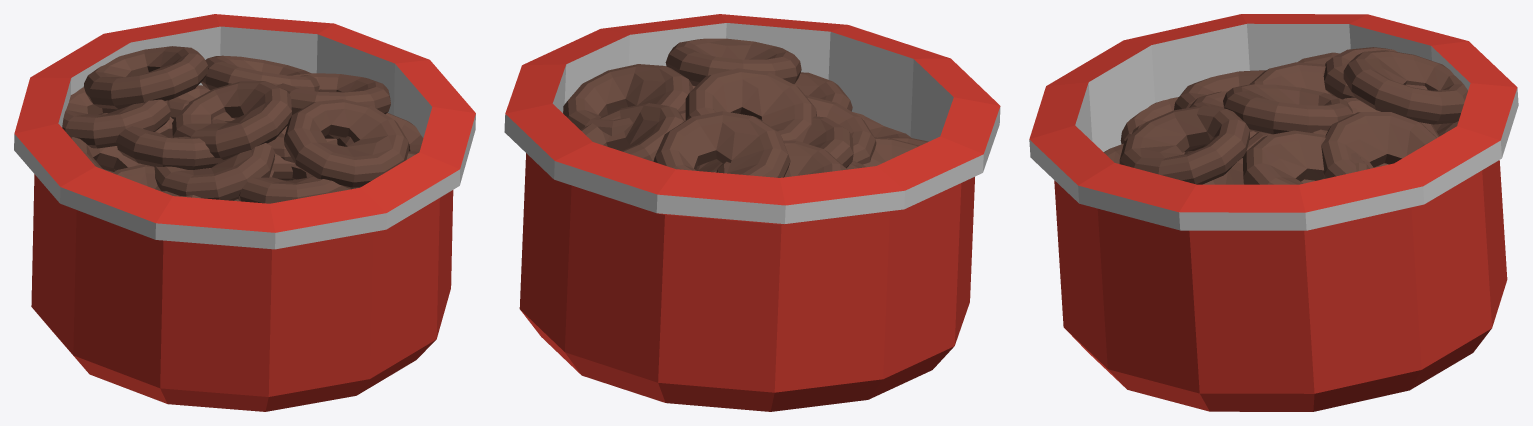
The picture shows the model from 3 angles, left to right: view 1: azimuth 30°, elevation 25°; view 2: azimuth 150°, elevation 25°; view 3: azimuth 270°, elevation 25°; orthographic projection. The views are drawn at different scales.
Visible parts, largest first — view 1: node_MeshObject1781977088-PolyPaper20; view 2: node_MeshObject1781977088-PolyPaper20; view 3: node_MeshObject1781977088-PolyPaper20.
Part boxes in pixels (x1,y1,x2,y2): node_MeshObject1781977088-PolyPaper20: (14,14,475,411); node_MeshObject1781977088-PolyPaper20: (504,14,1000,411); node_MeshObject1781977088-PolyPaper20: (1029,14,1518,411).
Size of the model in its own units: 0.1809 by 0.1068 by 0.181.
